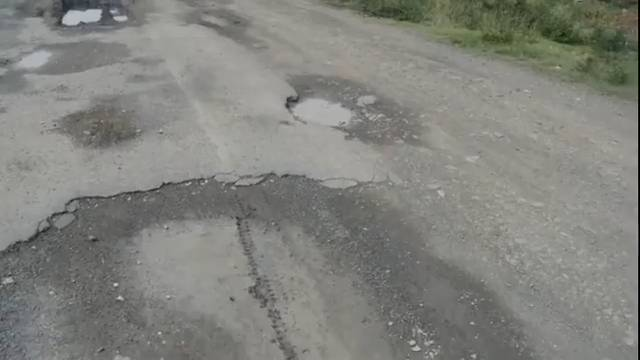pothole: (245, 50, 640, 283), (248, 260, 380, 360)
